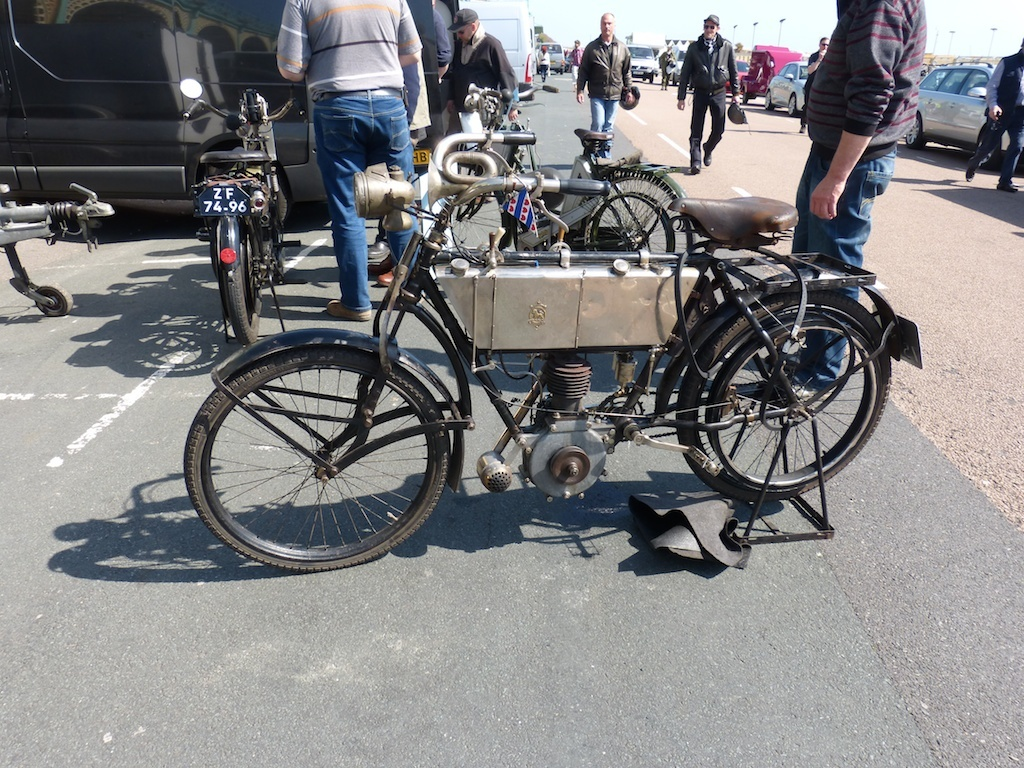Car: (908, 43, 1022, 159), (762, 59, 810, 115), (723, 57, 750, 96)
